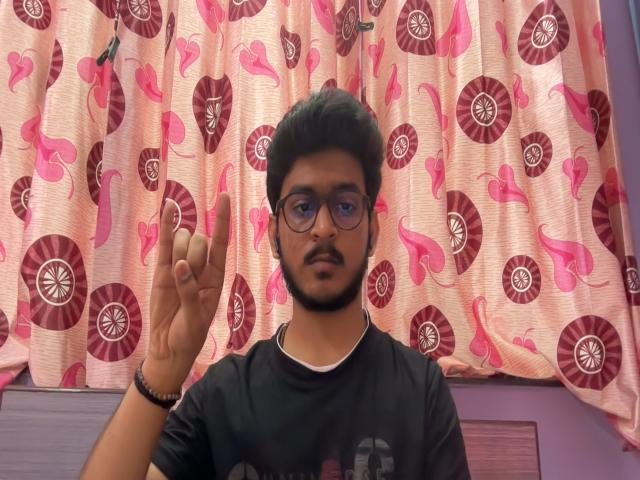I Love You: (140, 186, 246, 371)
